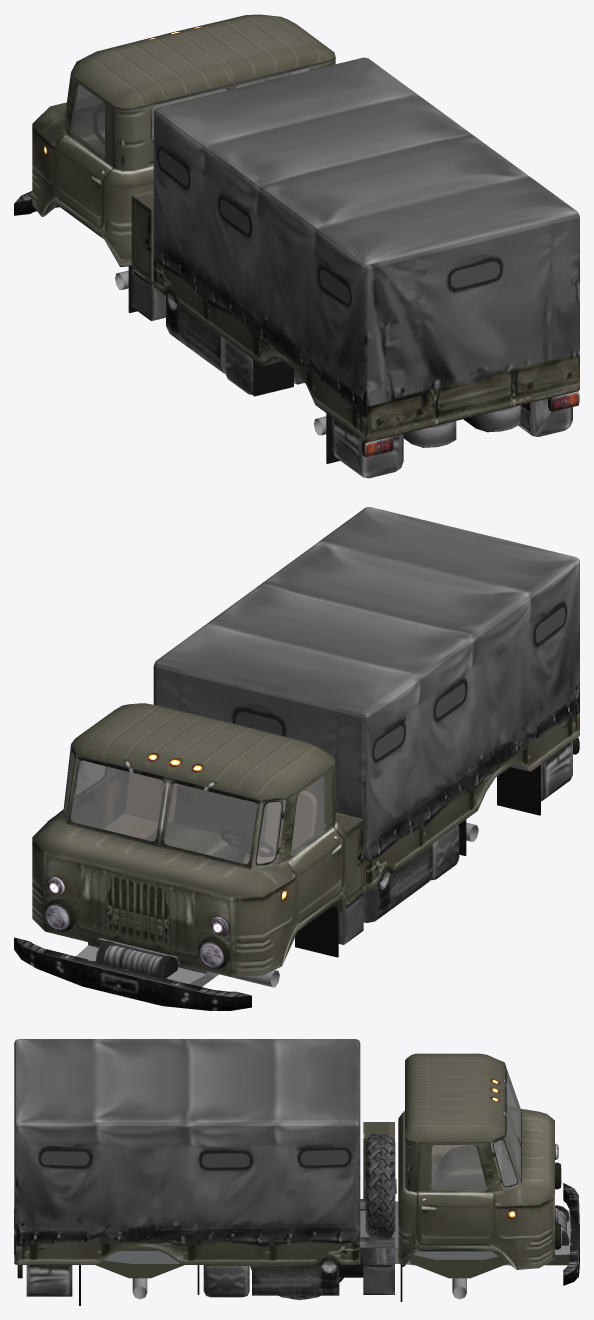
The model's file is trail-hauler.glb.
3 views of the same model, one above another, from view 1: azimuth 30°, elevation 25°; view 2: azimuth 150°, elevation 25°; view 3: azimuth 270°, elevation 25° (orthographic). The views are drawn at different scales.
Visible parts, largest first — view 1: Body; view 2: Body; view 3: Body.
Part boxes in pixels (x1,y1,x2,y2): Body: (14,14,579,478); Body: (14,507,579,1010); Body: (14,1039,579,1305).
Bounding box in the file's own units: 2.31 × 2.46 × 5.84.
5 materials, 4 textured.
